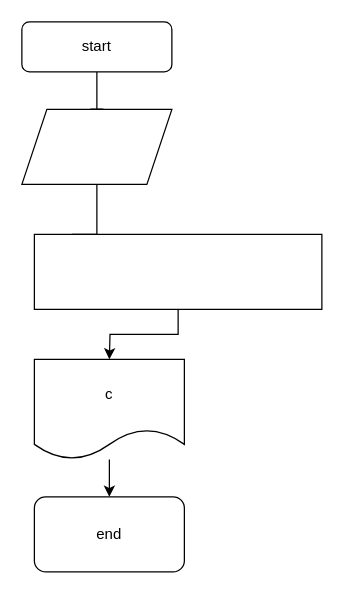
Some shapes in this 344 by 594 pixel diagram are drawn without their labels. Here are the shapes that lost their labels. From the top down, the centre of each, then its label:
[96,146]: a = 2345;
[177,271]: b = a * 20.0 / 100.0 * 10.0 / 100.0; c = b * b;
